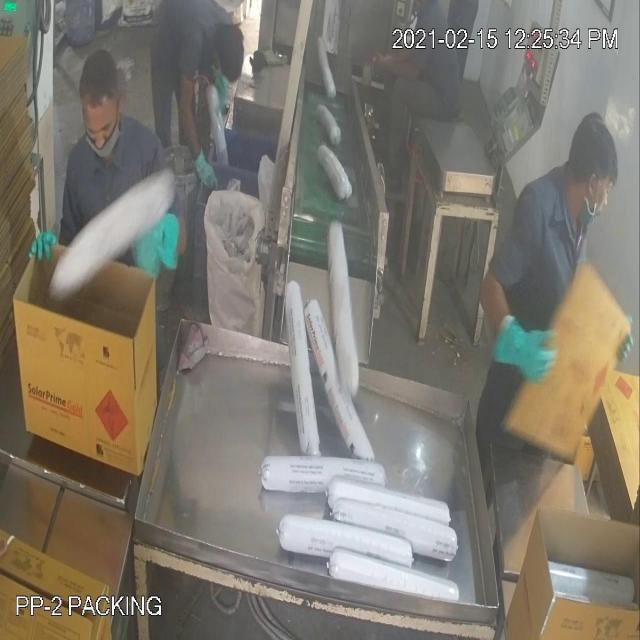Gloves: (489, 298, 555, 396)
